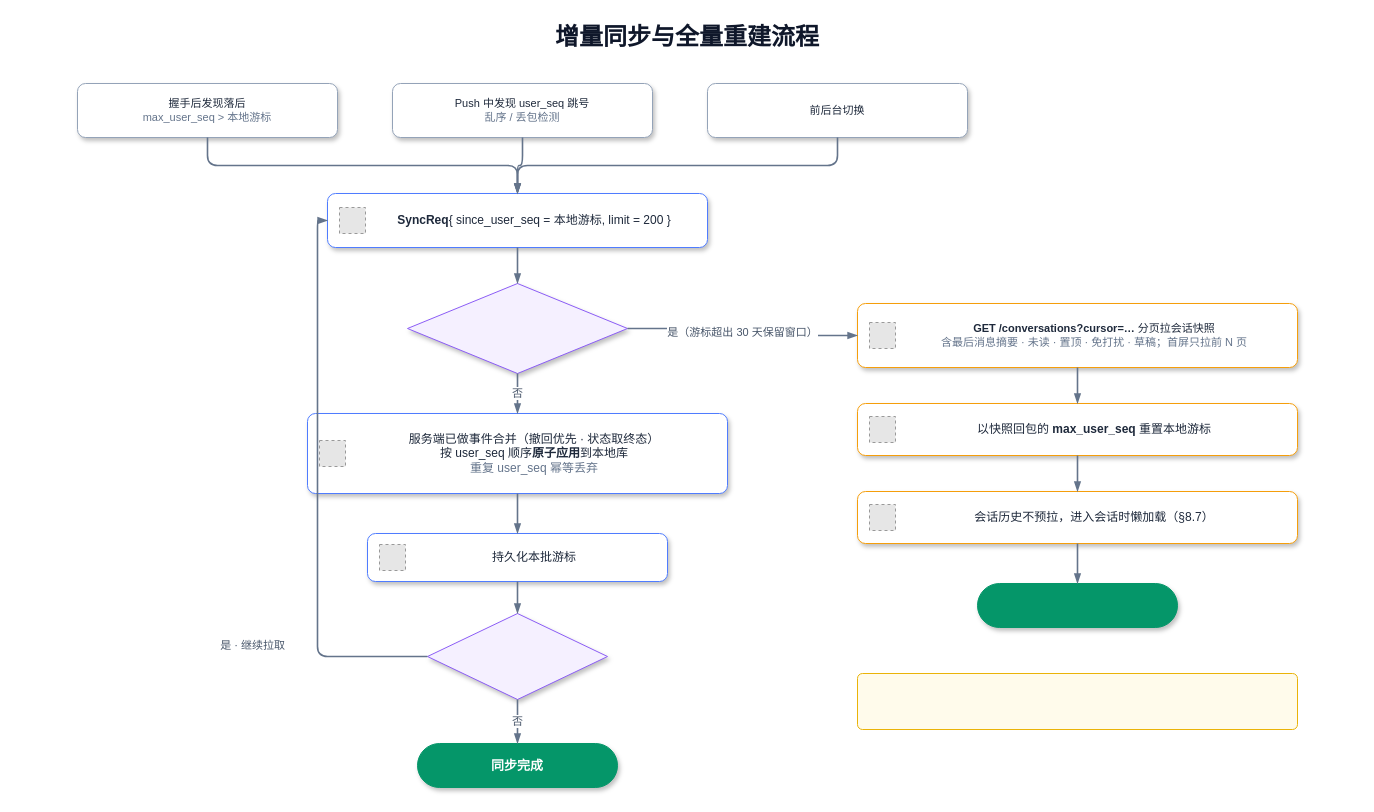
Some shapes in this 1374 by 812 pixel diagram are drawn without their labels. Grey dashed boxes stand in for pictures. The shapes that lost their labels are listed below. From the top down, each one's centre as x and y in pixels, then its label:
(x=518, y=329): full_resync = true？
(x=1078, y=606): 全量重建完成
(x=518, y=657): has_more？
(x=1077, y=701): 新设备首次登录 = 本地游标为空 = 同一条全量重建路径，无特殊分支
